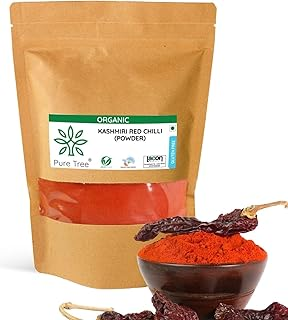Chilli Powder: (11, 2, 288, 320)
